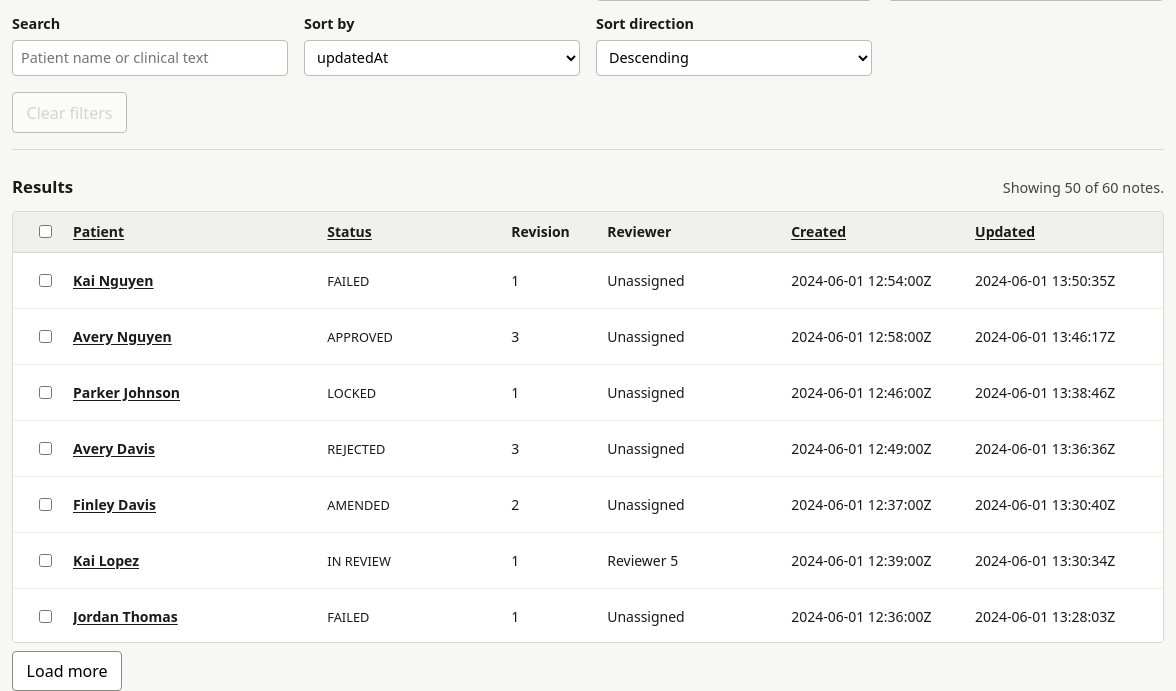
it: NotesListPage › 41: fetch-next-page preserves existing rows
(page scrolled)
Click the button with aria-label "Load more notes" at (67, 671), box [12,651,122,690]
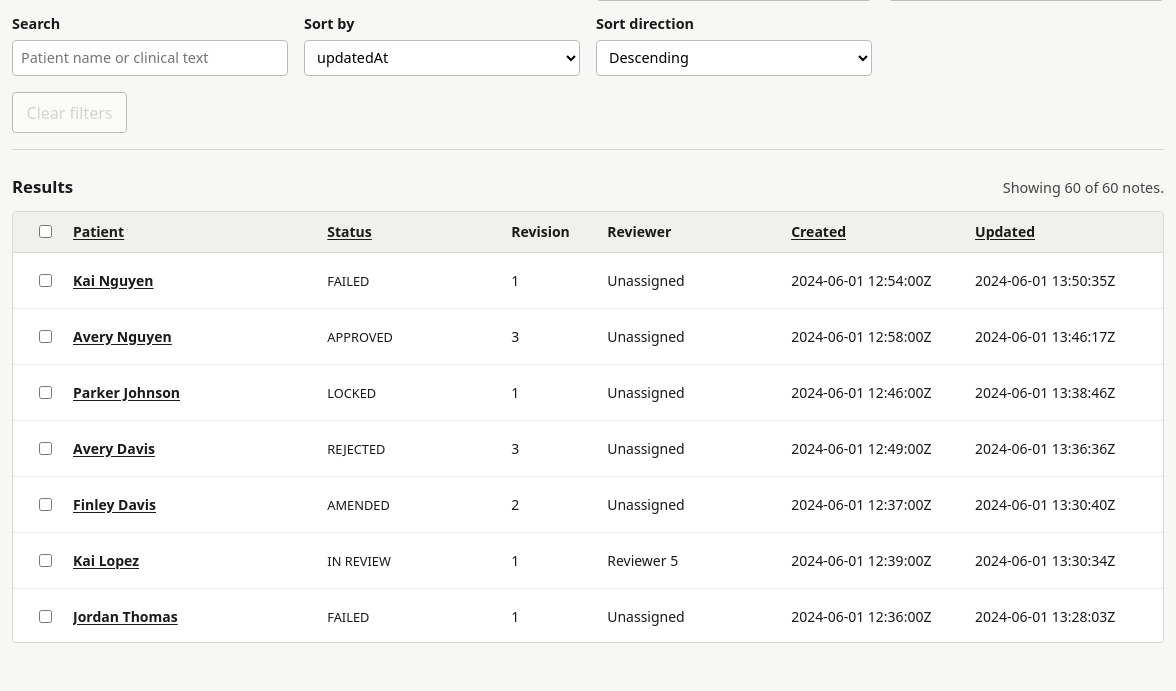
Expected: the row that starts with "Kai Nguyen" is shown, [13,253,1163,309]
Expected: the text "Showing 60 of 60 notes." is shown, [1003,177,1164,198]
